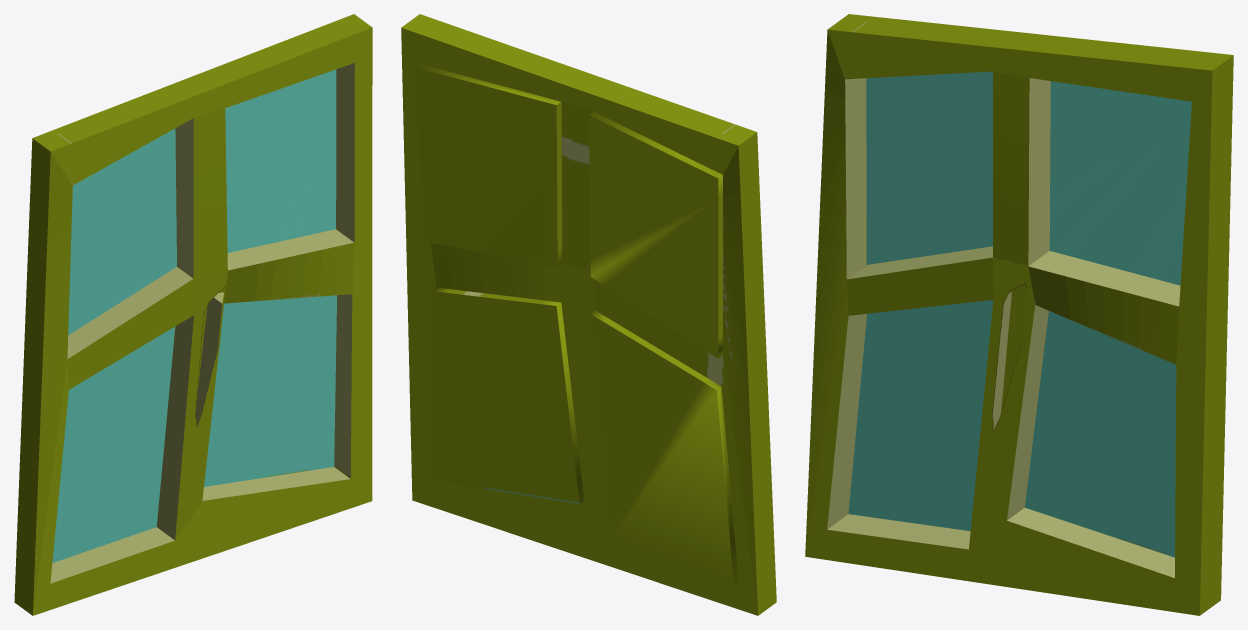
File: Ventana 4(ESCALADO).fbx
The picture shows the model from 3 angles, left to right: view 1: azimuth 30°, elevation 25°; view 2: azimuth 150°, elevation 25°; view 3: azimuth 330°, elevation 25°; orthographic projection. The views are drawn at different scales.
Visible parts, largest first — view 1: Ventana_4; view 2: Ventana_4; view 3: Ventana_4.
Part boxes in pixels (x1,y1,x2,y2): Ventana_4: [14, 14, 372, 615]; Ventana_4: [401, 14, 776, 615]; Ventana_4: [805, 14, 1233, 615].
Size of the model in its own units: 0.6175 by 0.8531 by 0.0988.
